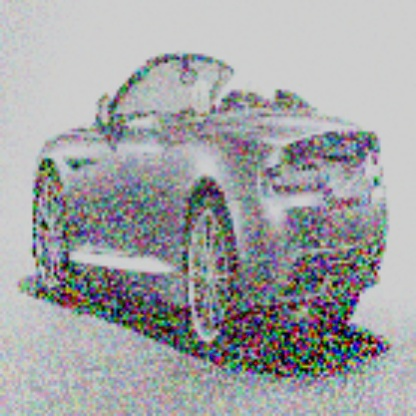Vehicle: (28, 49, 392, 370)
